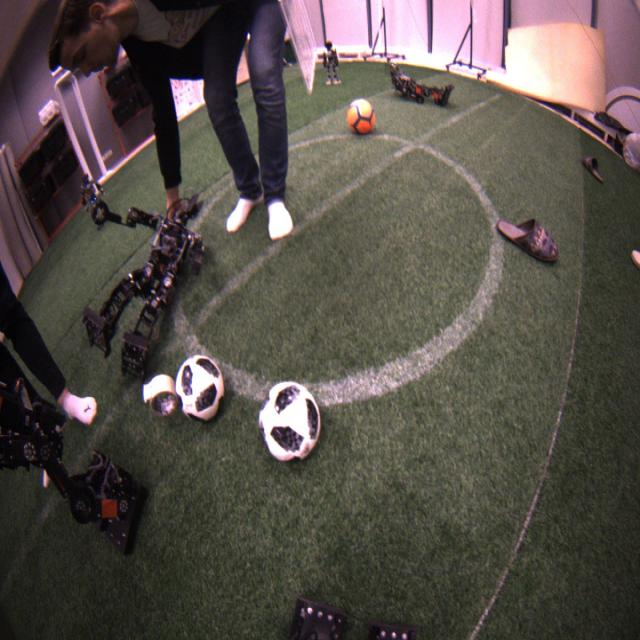ball: (260, 379, 322, 466), (177, 353, 226, 425), (347, 97, 375, 135)
goalpost: (52, 82, 99, 197)
